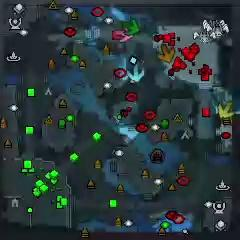x1: (116, 28, 131, 42)
x2: (218, 101, 234, 118)
x3: (127, 64, 145, 82)
x4: (123, 18, 139, 35)
x5: (158, 44, 175, 63)
